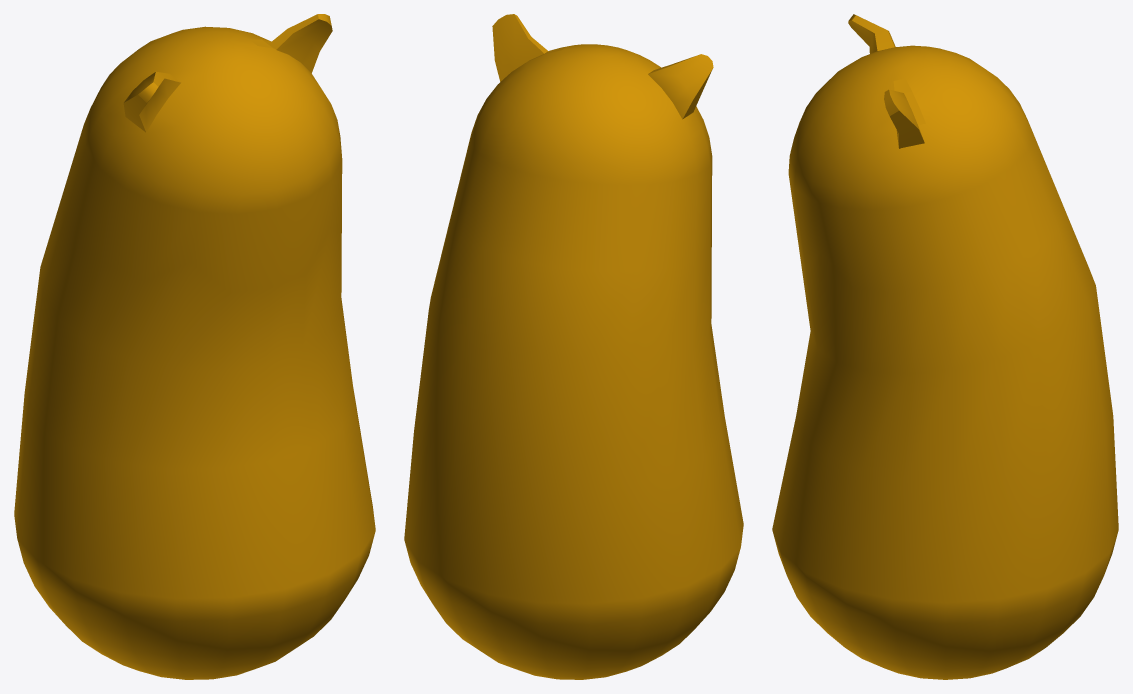
The model's file is SM_WoobleToy.fbx.
The picture shows the model from 3 angles, left to right: view 1: azimuth 30°, elevation 25°; view 2: azimuth 150°, elevation 25°; view 3: azimuth 270°, elevation 25°; orthographic projection. The views are drawn at different scales.
Visible parts, largest first — view 1: SM_WoobleToy; view 2: SM_WoobleToy; view 3: SM_WoobleToy.
Boxes of the visible parts, box(x1,y1,x2,y2) form: SM_WoobleToy: box(14, 14, 375, 679); SM_WoobleToy: box(404, 14, 743, 679); SM_WoobleToy: box(772, 14, 1118, 679).
Size of the model in its own units: 97.65 by 192 by 97.64.
